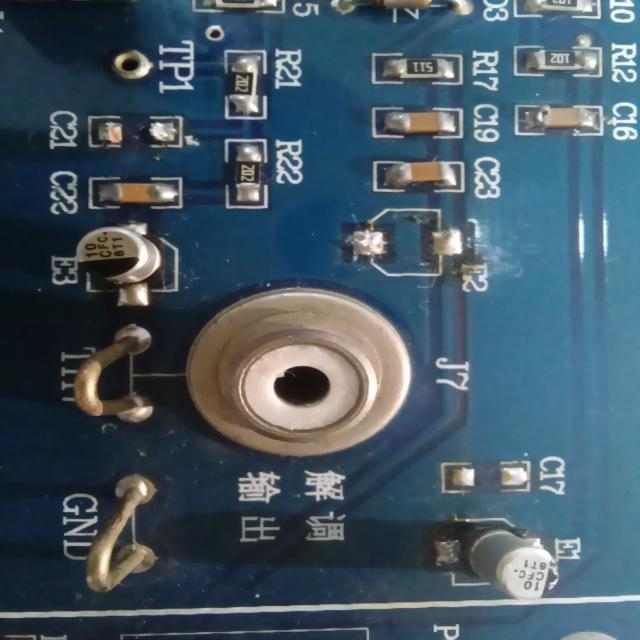Missing component: (317, 196, 506, 296), (42, 104, 202, 158), (430, 452, 578, 498)
